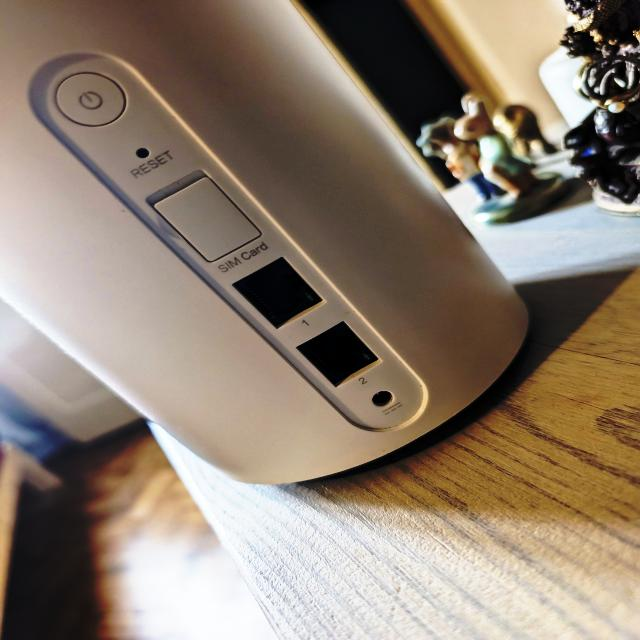lan: (238, 258, 322, 329), (295, 321, 381, 388)
modem: (0, 0, 532, 485)
onbutton: (52, 69, 135, 130)
pow: (345, 370, 425, 429)
sim: (156, 169, 267, 271)
